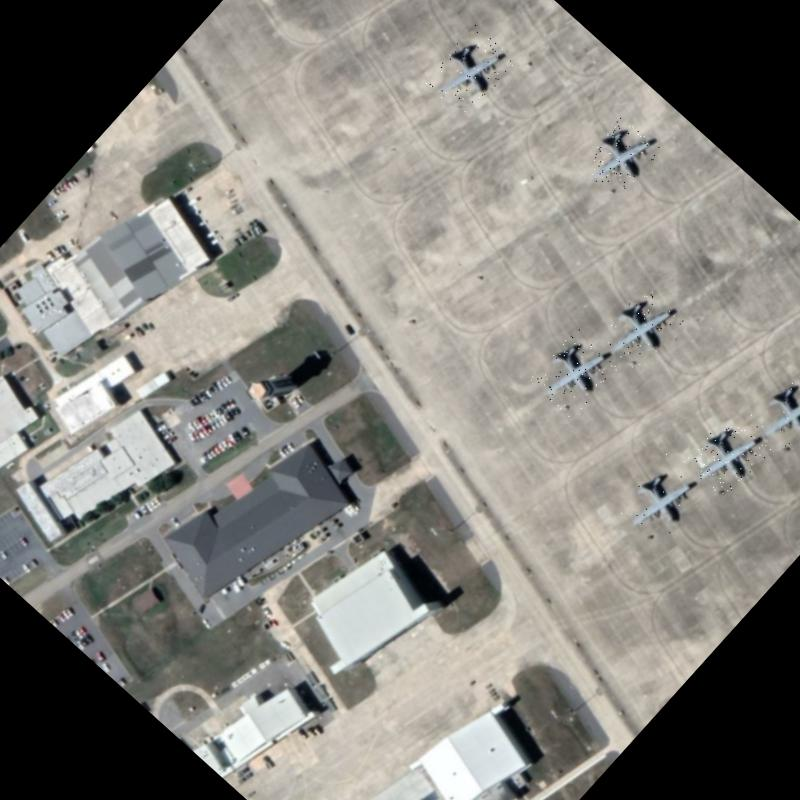A2: (612, 453, 707, 550), (422, 24, 516, 119), (528, 326, 620, 420), (682, 410, 772, 501), (594, 284, 684, 374), (577, 113, 663, 200), (745, 366, 800, 460)
